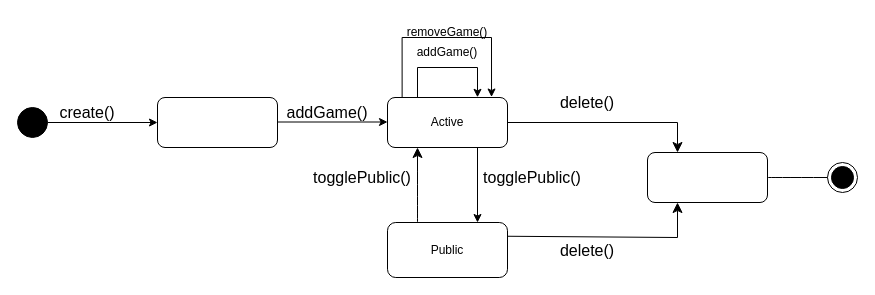
Image size: 875x295. Some labels were removed from this diagram. Here are the shapes that lost their labels. From the top down, the centre of each, then its label:
At [217,122]: "Created".
At [707,177]: "Deleted".
